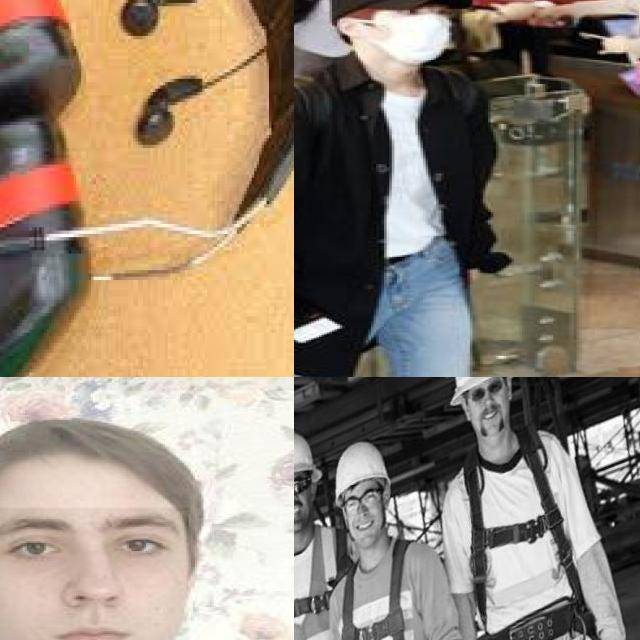Ear-protection: (0, 151, 96, 377)
Harness: (464, 429, 595, 630), (342, 540, 411, 640)
face_mask: (374, 6, 452, 66)
face_nomask: (0, 508, 188, 640)
head_nohelmet: (0, 403, 201, 512), (321, 0, 472, 20)
person: (294, 0, 640, 377), (0, 390, 294, 640)
